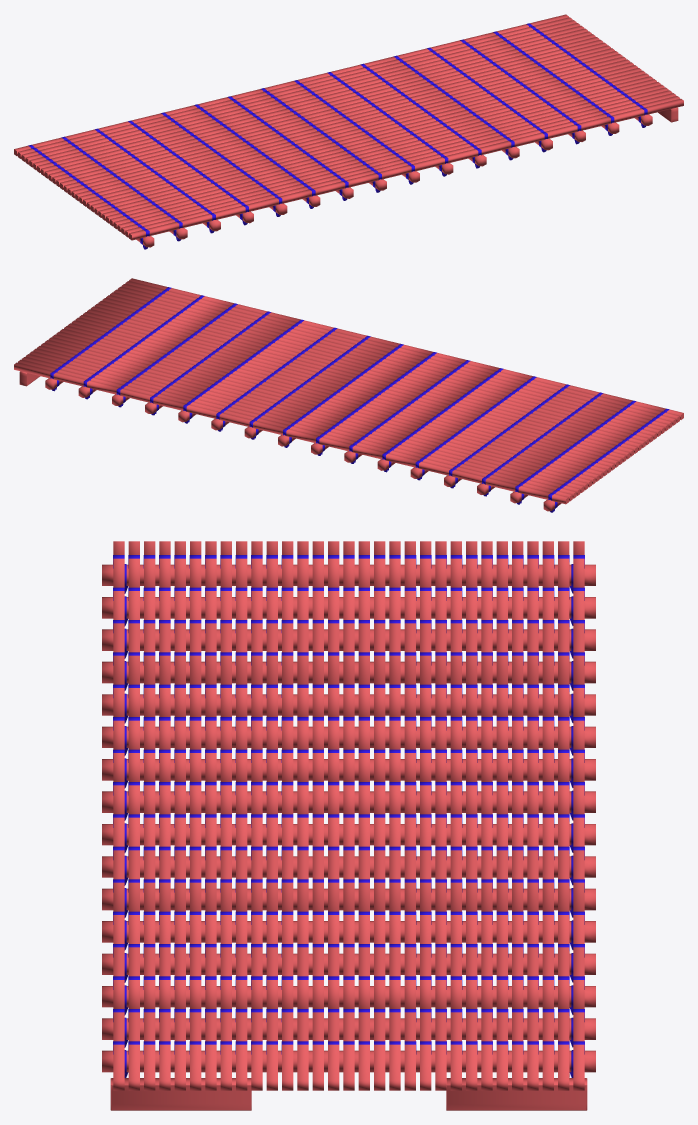
Rendered from SM_Tipairua_Deck.fbx.
The picture shows the model from 3 angles, top to bottom: view 1: azimuth 30°, elevation 25°; view 2: azimuth 150°, elevation 25°; view 3: azimuth 270°, elevation 25°; orthographic projection. The views are drawn at different scales.
Parts seen in each view (by area): view 1: SM_TIpairua_Desk; view 2: SM_TIpairua_Desk; view 3: SM_TIpairua_Desk.
Part boxes in pixels (x1=…): SM_TIpairua_Desk: x1=14, y1=14, x2=683, y2=249; SM_TIpairua_Desk: x1=14, y1=278, x2=683, y2=512; SM_TIpairua_Desk: x1=102, y1=541, x2=595, y2=1110.
Bounding box in the file's own units: 644 × 1662 × 55.85.
